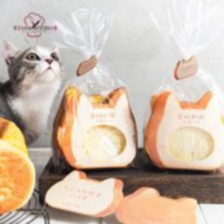snack: (42, 0, 142, 180), (138, 0, 224, 177)
